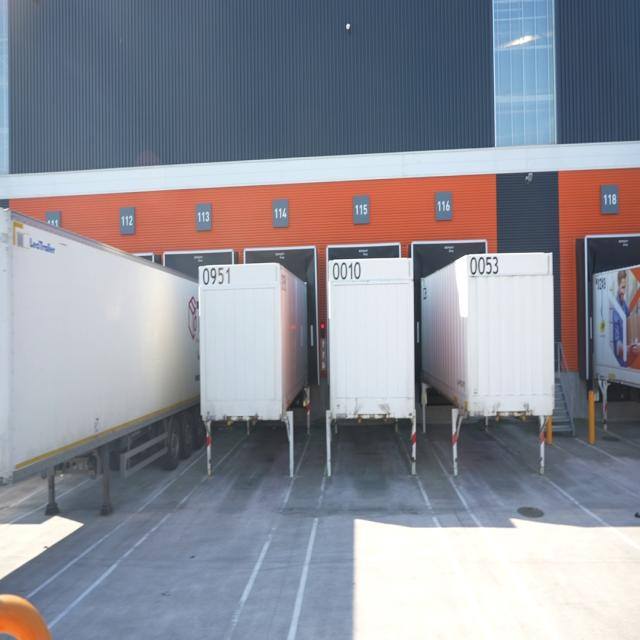Code: (328, 256, 362, 284), (198, 265, 238, 287), (468, 252, 501, 276)
